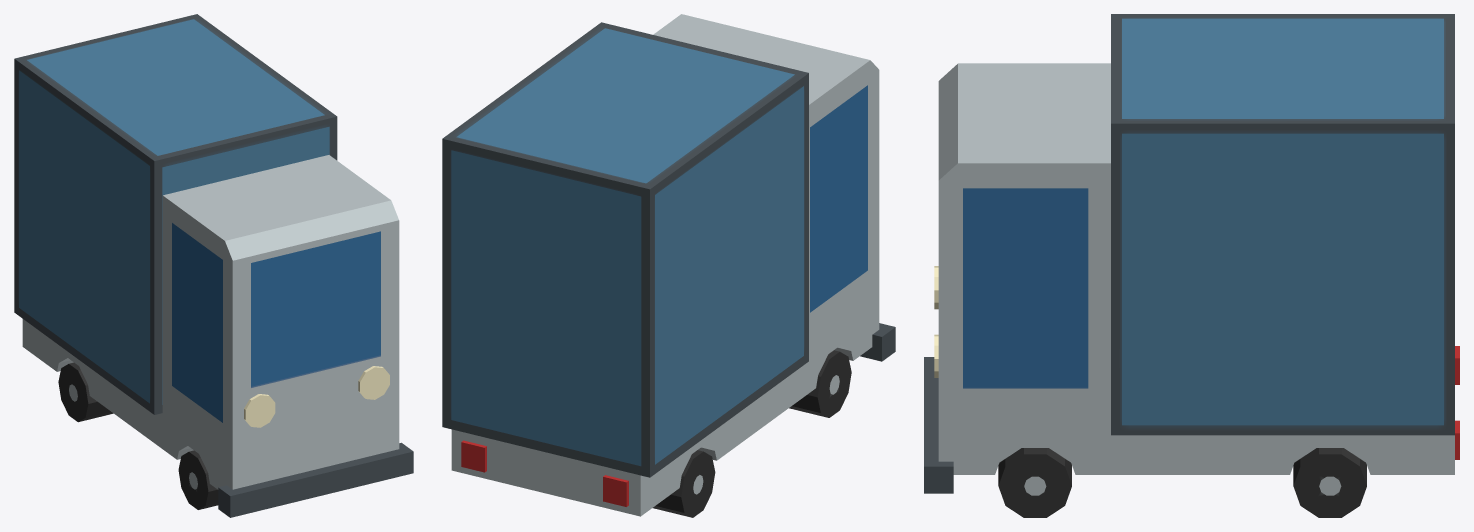
File: Lorry.fbx
3 views of the same model, side by side, from view 1: azimuth 30°, elevation 25°; view 2: azimuth 150°, elevation 25°; view 3: azimuth 270°, elevation 25° (orthographic). The views are drawn at different scales.
Parts seen in each view (by area): view 1: Lorry; view 2: Lorry; view 3: Lorry.
Part boxes in pixels (bbox=[...]): Lorry: bbox=[14, 14, 413, 517]; Lorry: bbox=[442, 14, 895, 517]; Lorry: bbox=[924, 14, 1459, 517].
Bounding box in the file's own units: 176 × 299 × 363.
